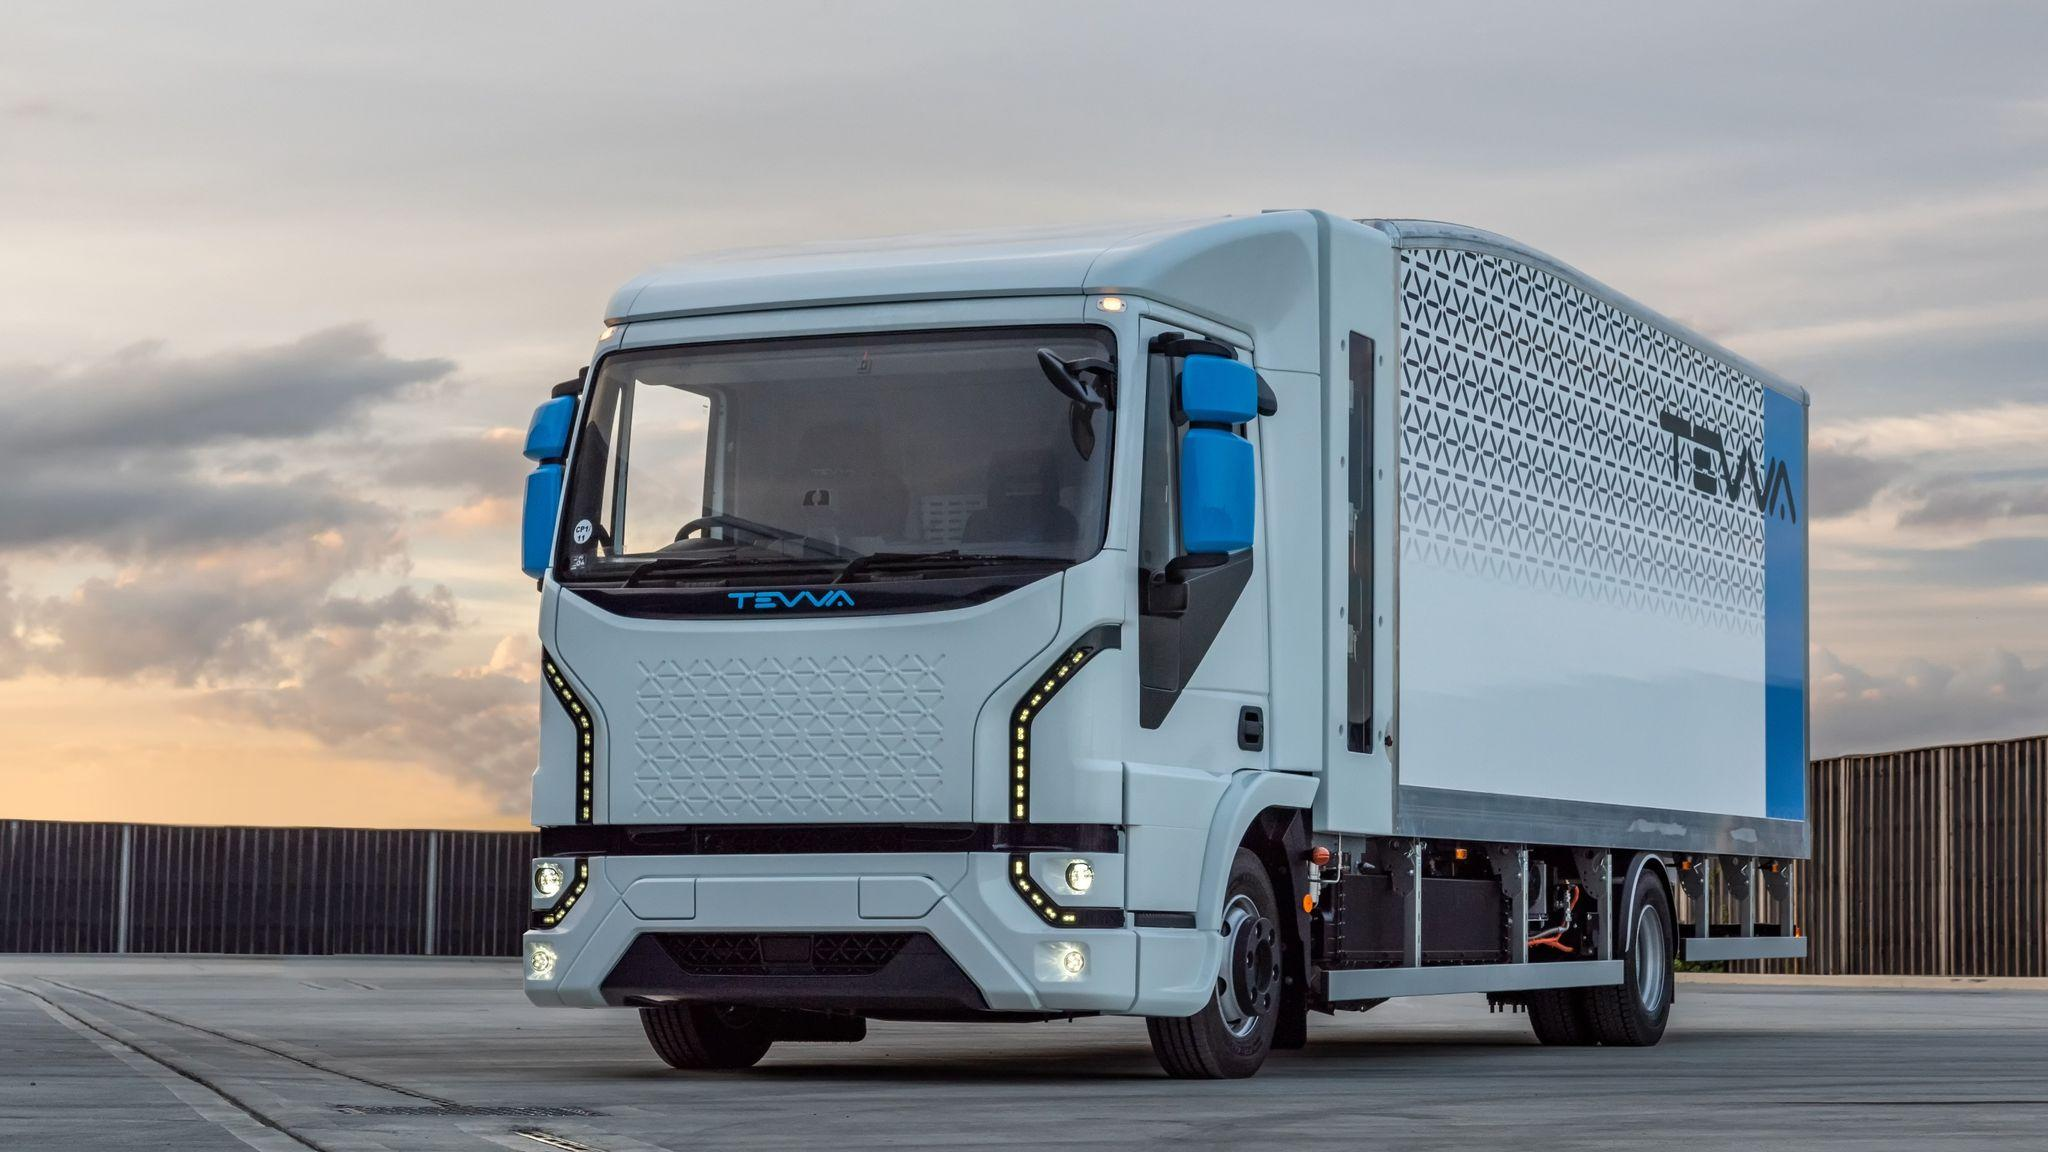truck: (519, 207, 1813, 1080)
